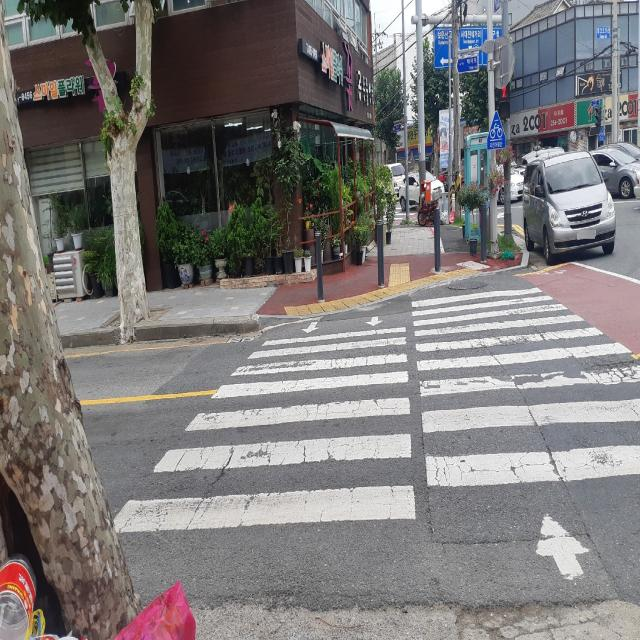빨간불: (499, 82, 512, 118)
횡단보도: (111, 284, 640, 583)
